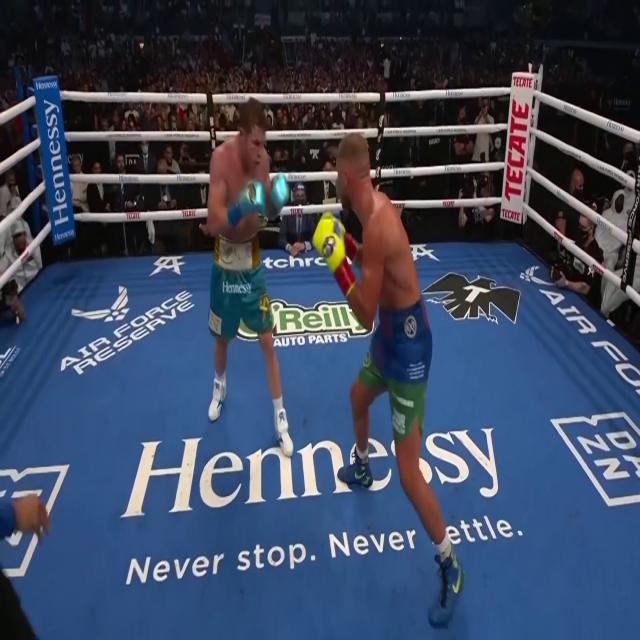boxer_1: (341, 129, 422, 314)
boxer_2: (220, 98, 266, 244)
gloves_1: (313, 212, 355, 296), (345, 229, 357, 260)
gloves_2: (226, 178, 266, 226), (270, 172, 289, 214)
